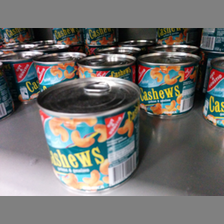nuts: (37, 76, 143, 192), (138, 51, 198, 119), (200, 58, 224, 127)
